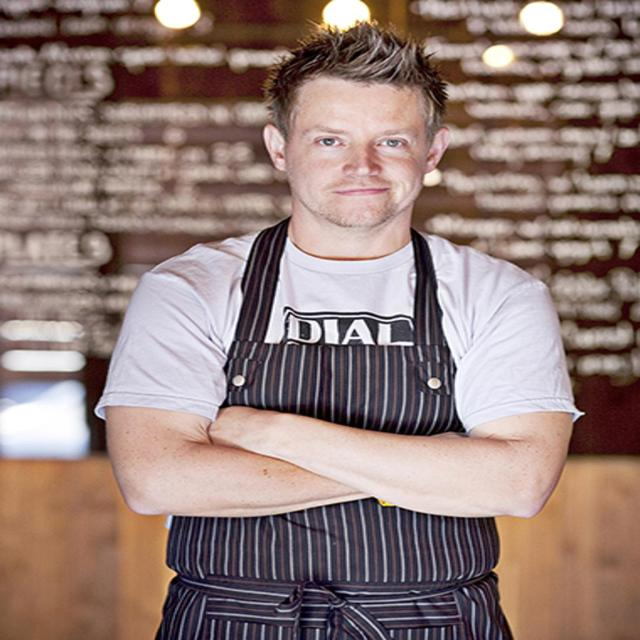Face: (284, 67, 438, 223)
